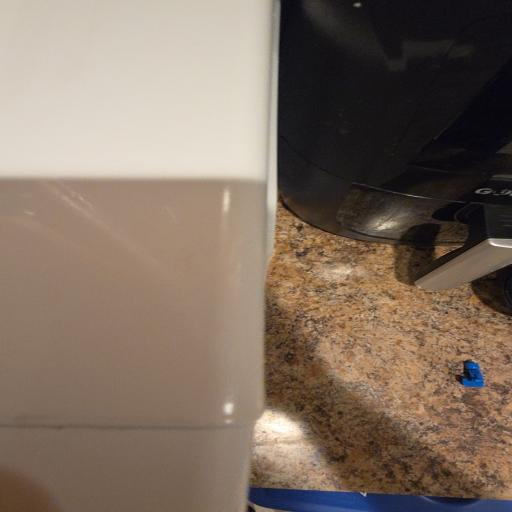Blue: (461, 361, 484, 387)
